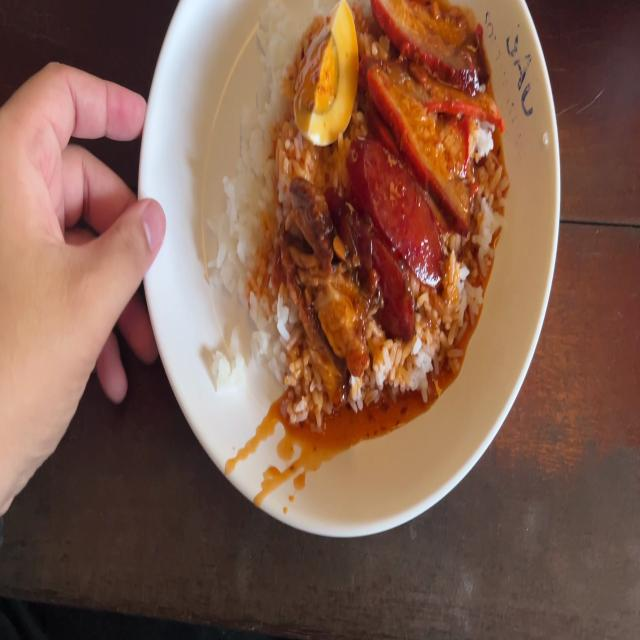red_pork_and_crispy_pork: (299, 20, 354, 134)
stir_fried_basil: (349, 152, 418, 316)
